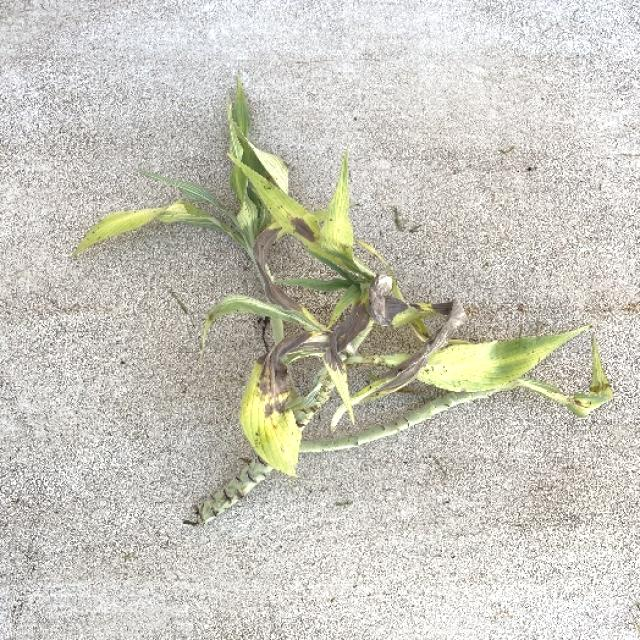organic: (100, 63, 613, 531)
